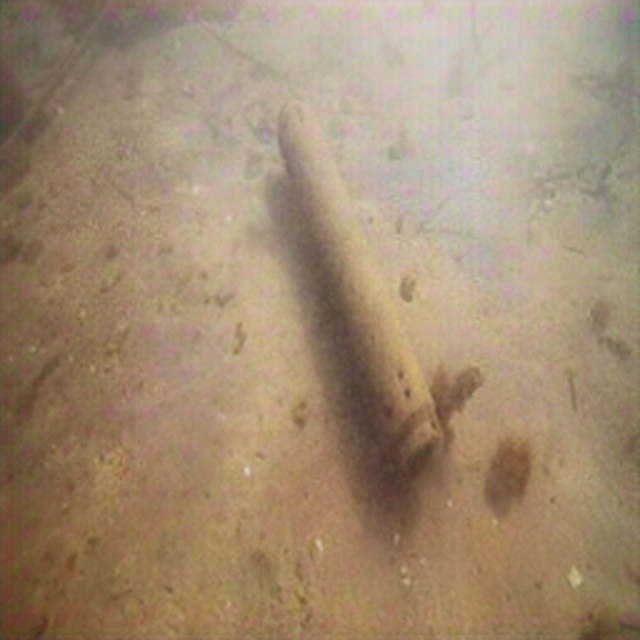mine: (276, 96, 444, 487)
